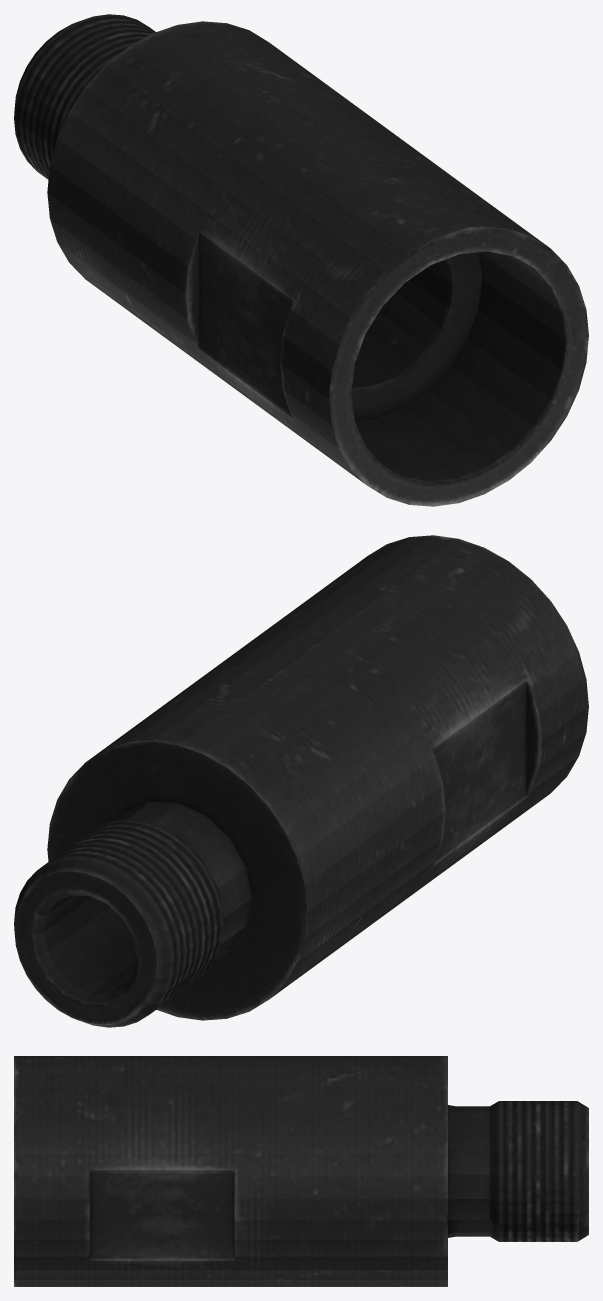
3 renders of one model, top to bottom at view 1: azimuth 30°, elevation 25°; view 2: azimuth 150°, elevation 25°; view 3: azimuth 270°, elevation 25°, orthographic. The views are drawn at different scales.
Parts seen in each view (by area): view 1: TW_630f27f04f3f6281050b94d7_PZ_Import; view 2: TW_630f27f04f3f6281050b94d7_PZ_Import; view 3: TW_630f27f04f3f6281050b94d7_PZ_Import.
Part boxes in pixels (bbox=[...]): TW_630f27f04f3f6281050b94d7_PZ_Import: bbox=[14, 14, 588, 506]; TW_630f27f04f3f6281050b94d7_PZ_Import: bbox=[14, 535, 588, 1027]; TW_630f27f04f3f6281050b94d7_PZ_Import: bbox=[14, 1056, 588, 1286].
Bounding box in the file's own units: 0.0121 × 0.0302 × 0.0121.
1 material, 1 textured.
